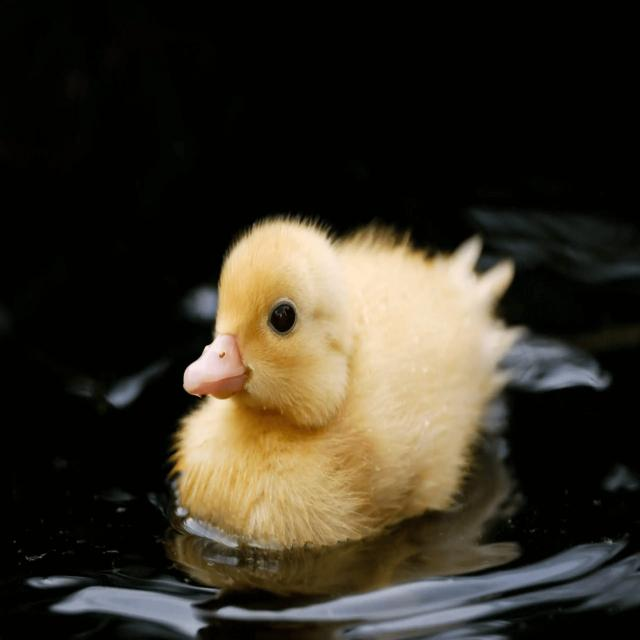Duck: (156, 196, 536, 556)
